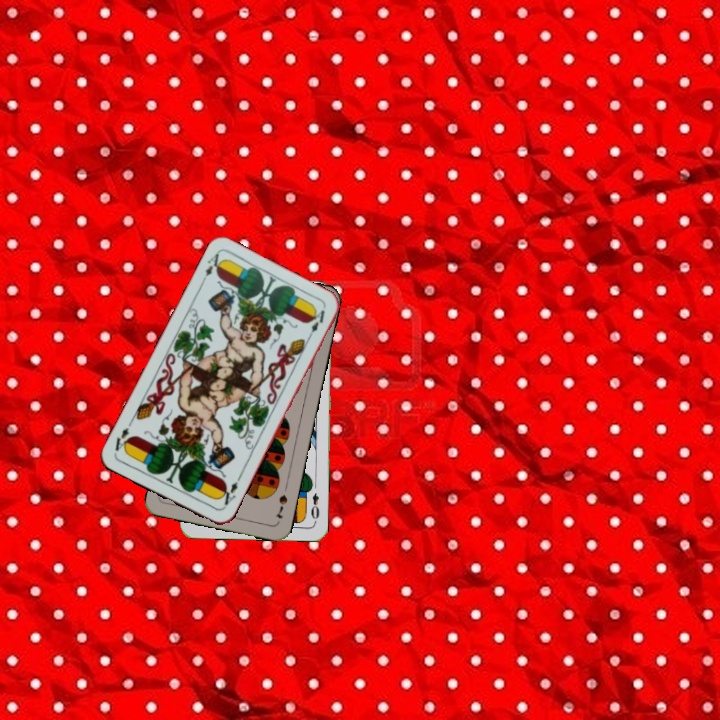EA: (197, 249, 226, 287), (215, 473, 243, 511)
EO: (307, 489, 322, 525)
S7: (271, 490, 290, 521)
